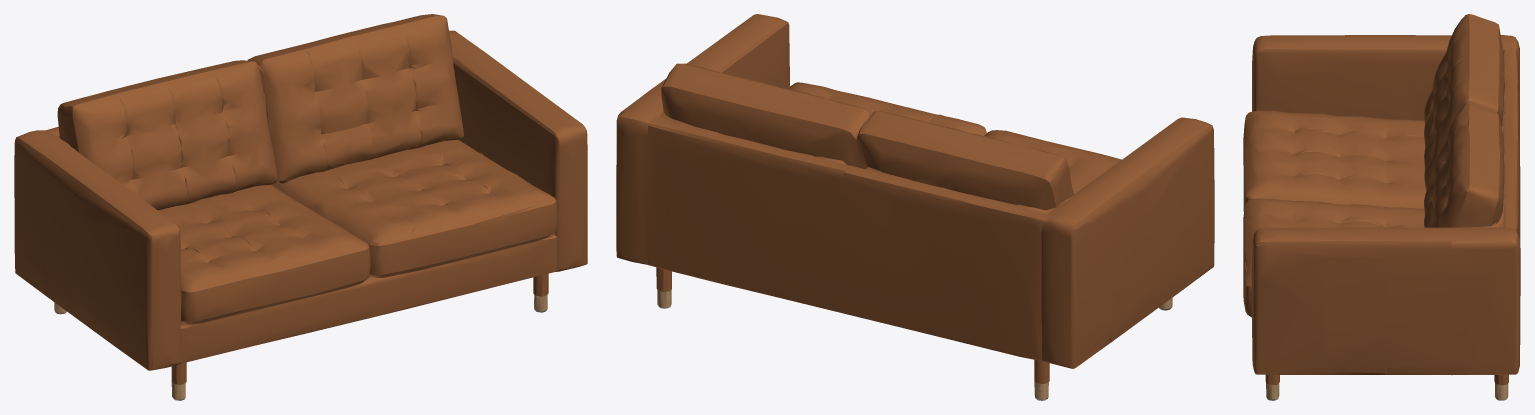
File: landskrona_sofa_2_osobowa_69270264.glb
The picture shows the model from 3 angles, left to right: view 1: azimuth 30°, elevation 25°; view 2: azimuth 150°, elevation 25°; view 3: azimuth 270°, elevation 25°; orthographic projection. The views are drawn at different scales.
Parts seen in each view (by area): view 1: landskrona_sofa_2_osobowa_69270264; view 2: landskrona_sofa_2_osobowa_69270264; view 3: landskrona_sofa_2_osobowa_69270264.
Boxes of the visible parts, box(x1,y1,x2,y2) form: landskrona_sofa_2_osobowa_69270264: box(14, 14, 587, 400); landskrona_sofa_2_osobowa_69270264: box(616, 14, 1214, 400); landskrona_sofa_2_osobowa_69270264: box(1243, 14, 1520, 400).
Bounding box in the file's own units: 1.65 × 0.7811 × 0.919.
Materials: 1 (1 with a texture image).
